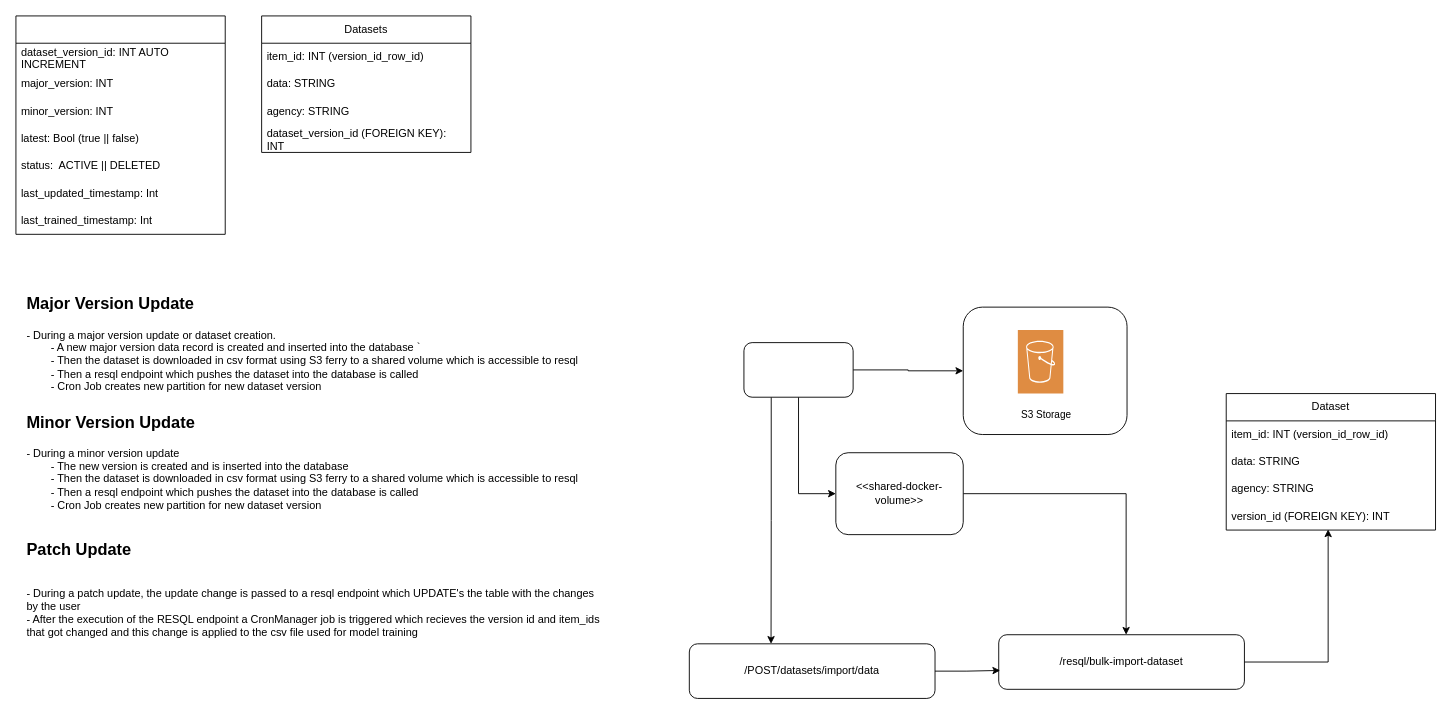
Some shapes in this 1451 by 714 pixel diagram are drawn without their labels. The box of each missing label's shape, as (x1, y1, x2, y2) in pixels:
Dataset Generator: (743, 342, 853, 397)
DatasetVersions: (15, 15, 225, 234)
